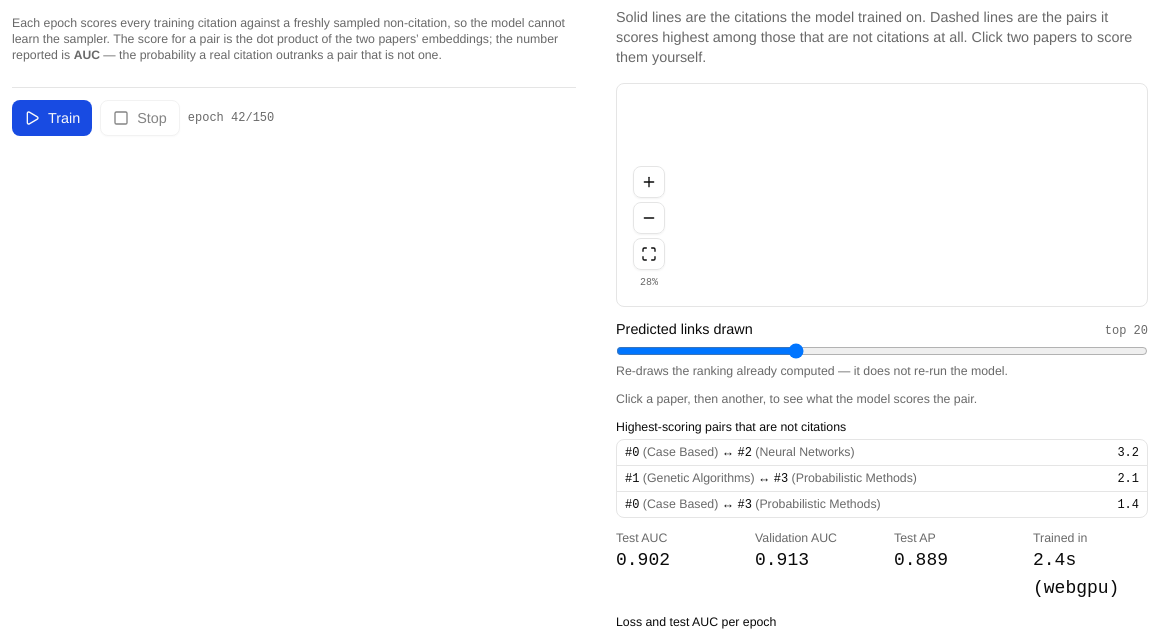
Scenario: LinkPredictionPage › moving the top-k slider re-draws without re-running
The width and height of the screenshot is (1164, 631).
(page scrolled)
Set the slider labelled "Predicted links drawn top 20" to "5" at (667, 351), box [616, 343, 1148, 359]
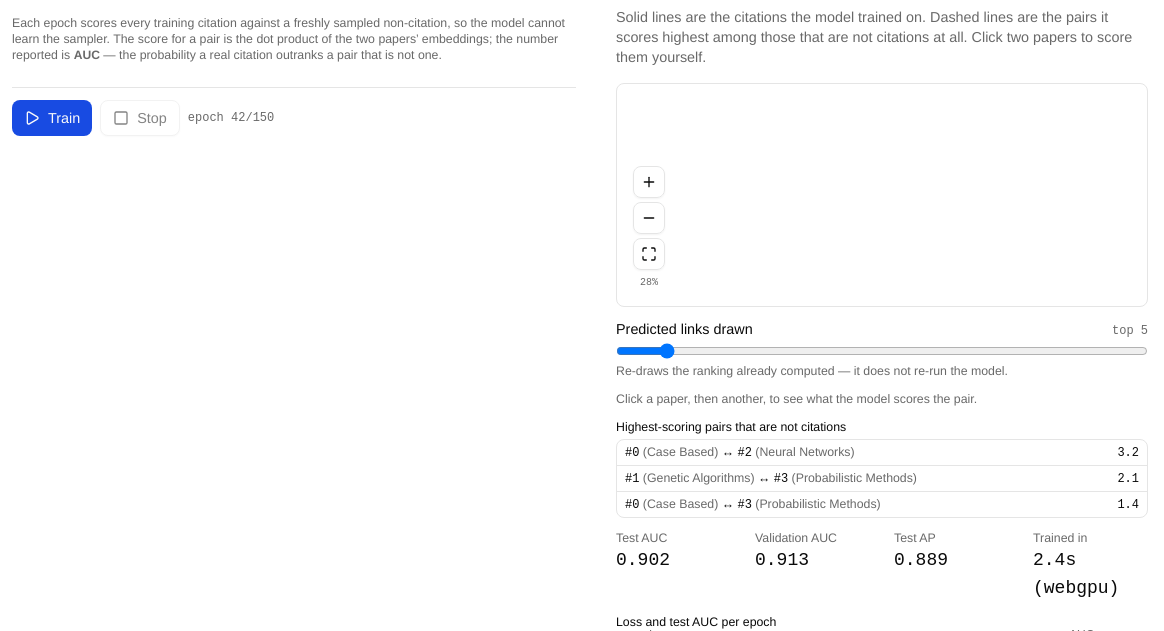
Now the text "top 5" is shown, box [1112, 323, 1148, 339]
